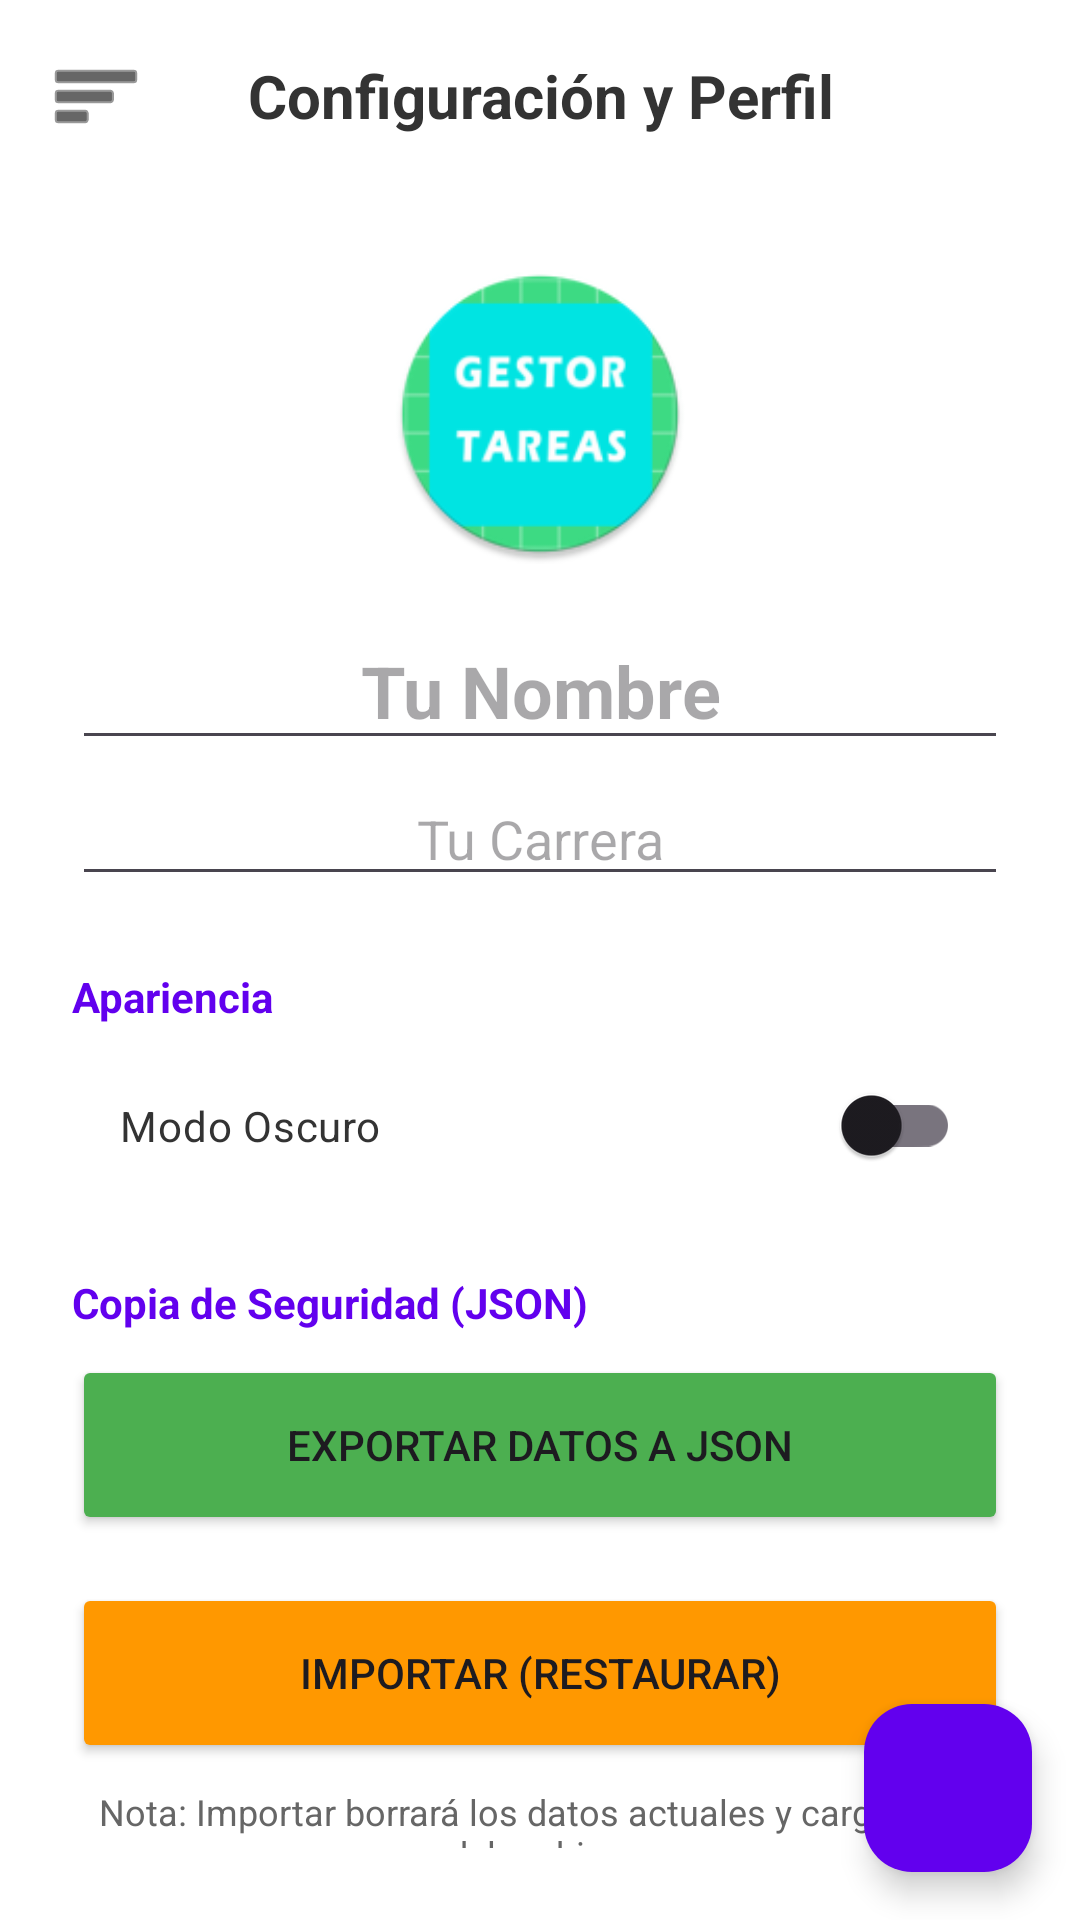

Icon click points for this 1080 x 1920 phone screenshot, format [x,y]:
sort by size: [96,96]
